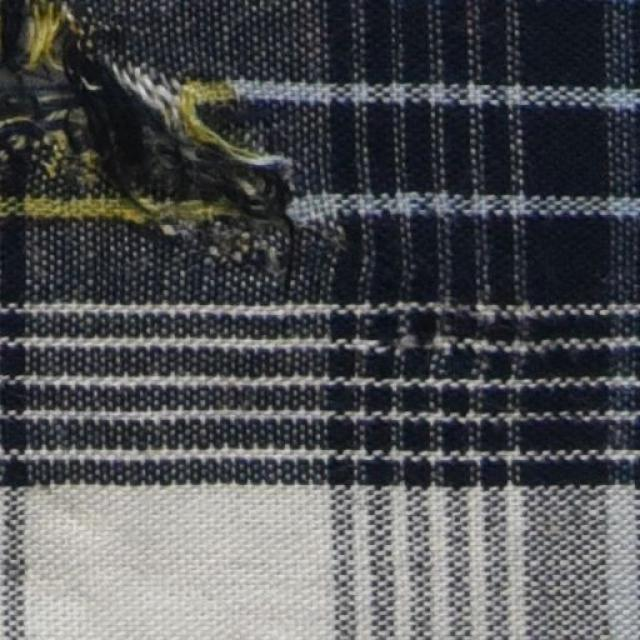Snag: (78, 43, 171, 162), (204, 136, 305, 221), (0, 86, 80, 151)
Stain: (0, 148, 210, 236), (162, 70, 236, 147), (9, 0, 66, 74)
